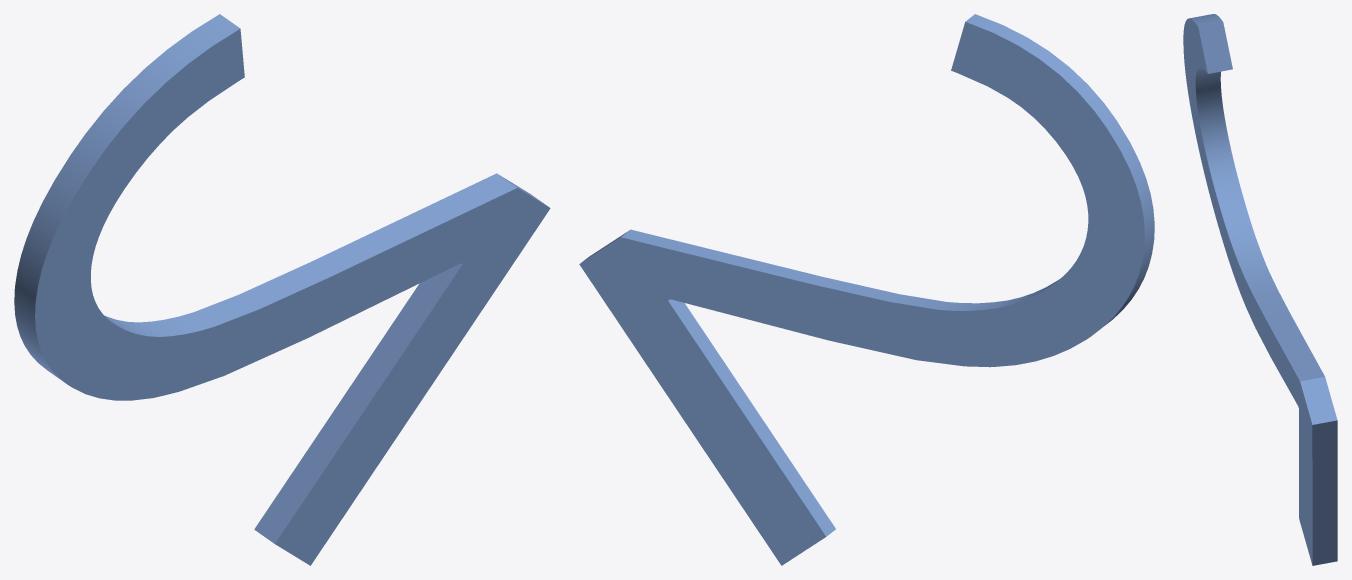
File: New_Number_2.gltf
3 views of the same model, side by side, from view 1: azimuth 30°, elevation 25°; view 2: azimuth 150°, elevation 25°; view 3: azimuth 270°, elevation 25° (orthographic). The views are drawn at different scales.
Parts seen in each view (by area): view 1: Part 434; view 2: Part 434; view 3: Part 434.
Part boxes in pixels (left/top/right/bottom): Part 434: left=14, top=14, right=550, bottom=565; Part 434: left=579, top=14, right=1154, bottom=565; Part 434: left=1183, top=14, right=1337, bottom=565.
Bounding box in the file's own units: 0.00529 × 0.00534 × 0.00153.
